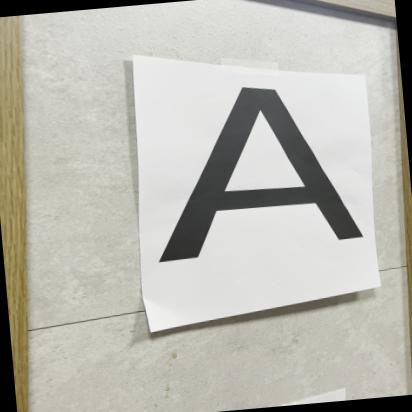seat: (128, 72, 380, 294)
